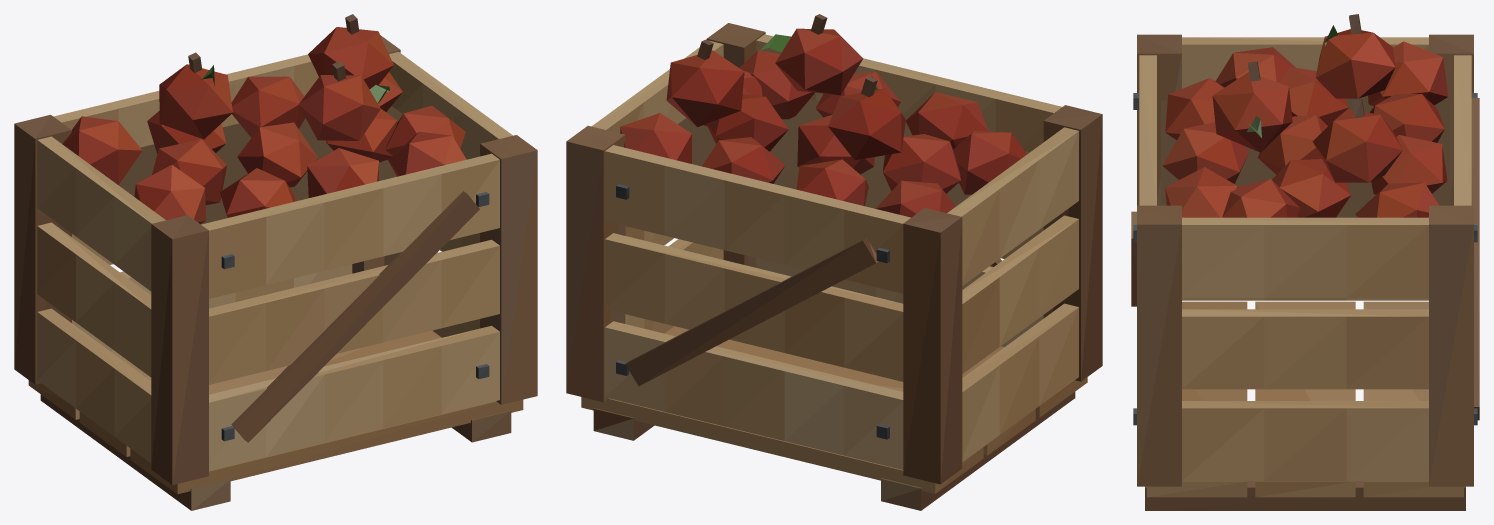
Rendered from crate-produce.glb.
3 renders of one model, left to right at view 1: azimuth 30°, elevation 25°; view 2: azimuth 150°, elevation 25°; view 3: azimuth 270°, elevation 25°, orthographic. The views are drawn at different scales.
Visible parts, largest first — view 1: crate_body, produce, hardware; view 2: crate_body, produce, hardware; view 3: crate_body, produce, hardware.
Part boxes in pixels (x1=…): crate_body: x1=14, y1=35, x2=537, y2=510; produce: x1=62, y1=14, x2=466, y2=224; hardware: x1=221, y1=192, x2=489, y2=441; crate_body: x1=566, y1=23, x2=1102, y2=510; produce: x1=620, y1=14, x2=1029, y2=217; hardware: x1=616, y1=184, x2=889, y2=439; crate_body: x1=1131, y1=34, x2=1479, y2=510; produce: x1=1161, y1=14, x2=1449, y2=217; hardware: x1=1133, y1=93, x2=1477, y2=425.
Bounding box in the file's own units: 0.56 × 0.5308 × 0.434.
